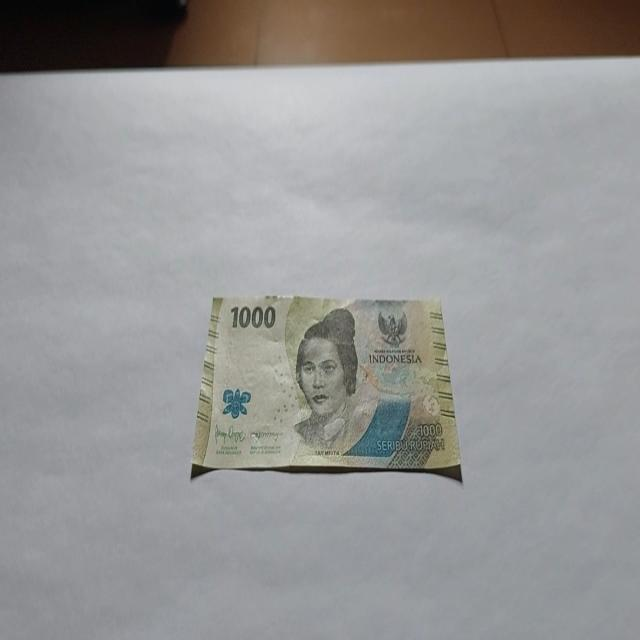seribu rupiah kertas: (190, 293, 462, 482)
